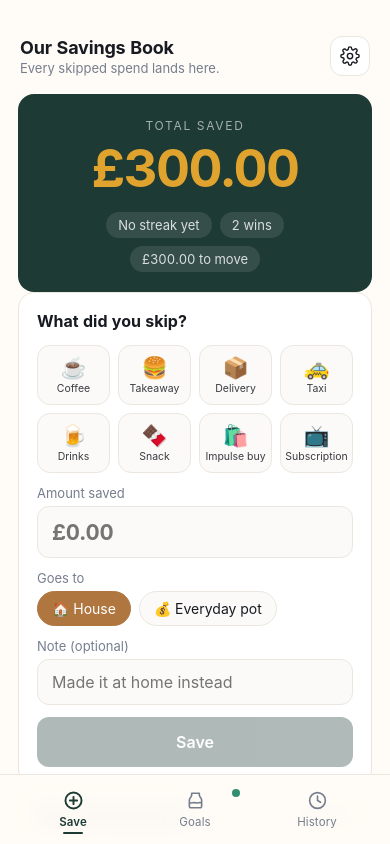
Test: eşin aktivitesi › görülmemiş kayıt varsa rozet çıkar
The width and height of the screenshot is (390, 844).
Click the button "Goals" at (195, 808), box [134,781,256,834]
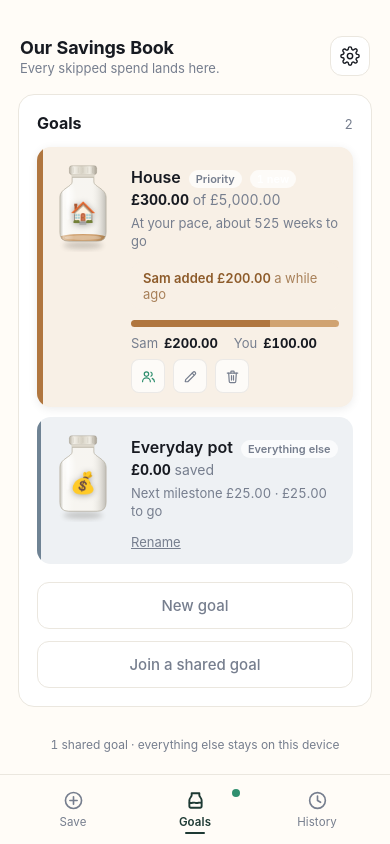
Result: the text "1 new" is shown at [250,170,296,188]
Result: the text "Sam added £200.00 a while ago" is shown at [131,262,339,310]
